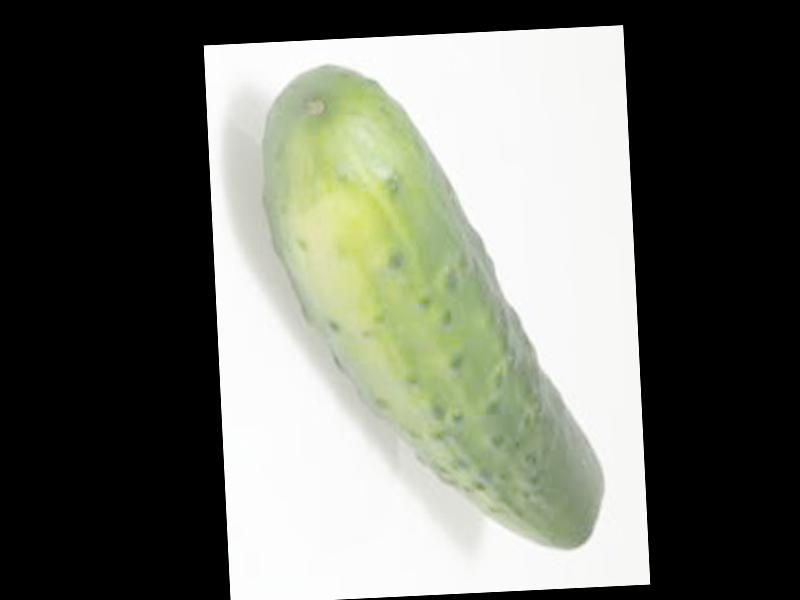Cucumber: (261, 56, 607, 564)
